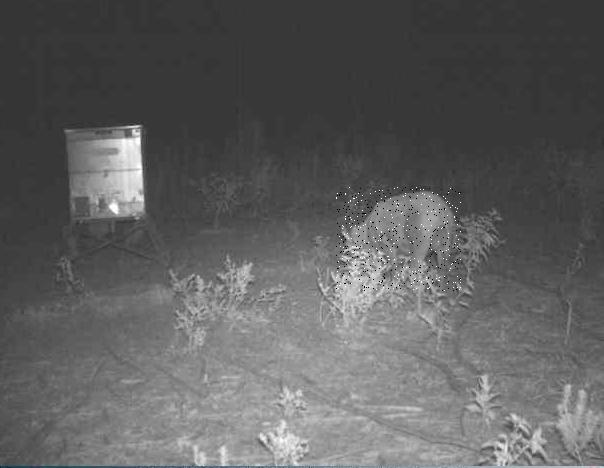Hog: (336, 188, 461, 292)
